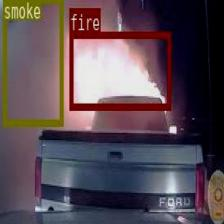fire: (69, 31, 170, 108)
smoke: (2, 0, 62, 125)
